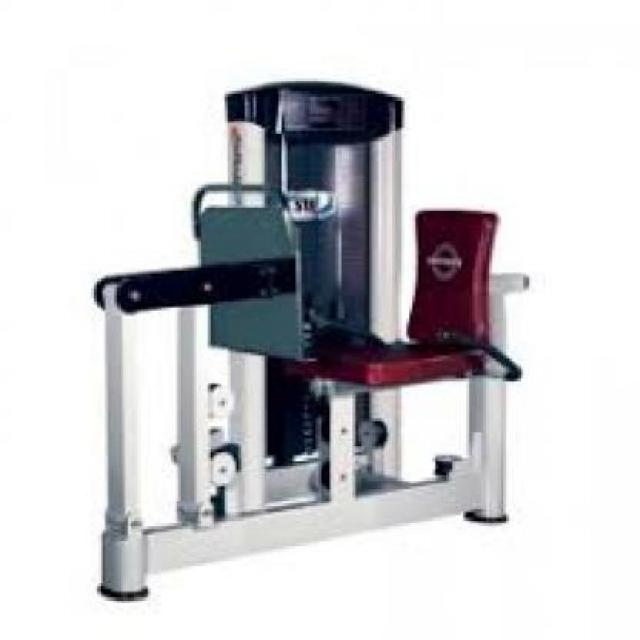leg press: (57, 49, 574, 600)
